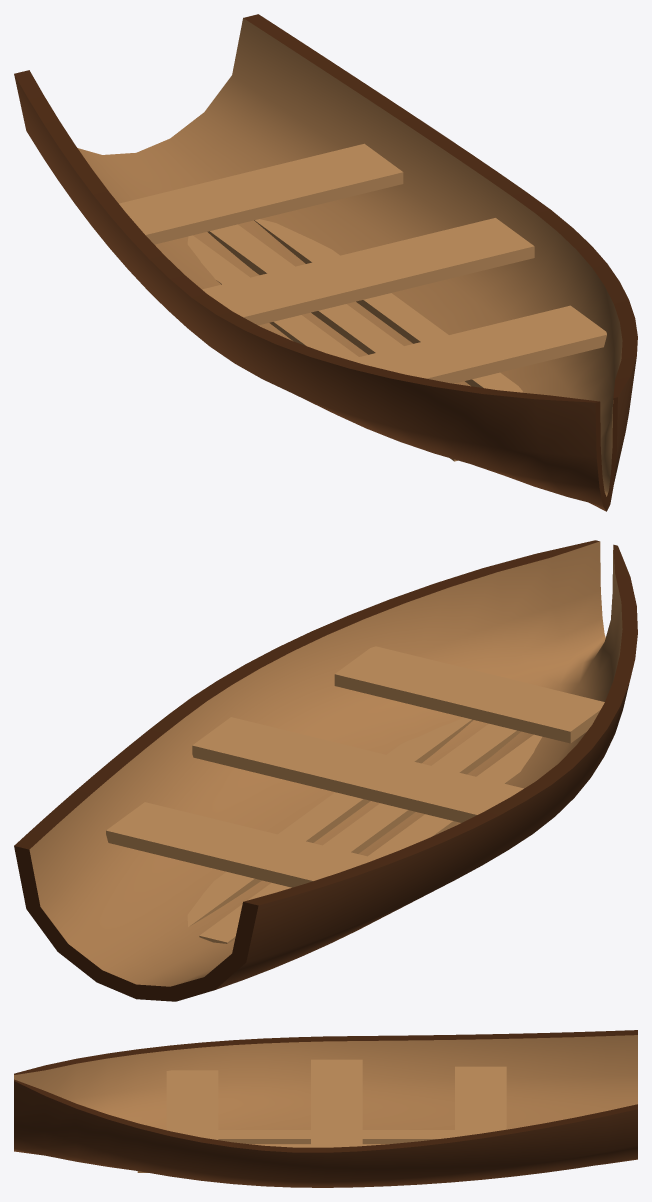
Rendered from nogita_wooden_boat.glb.
The picture shows the model from 3 angles, top to bottom: view 1: azimuth 30°, elevation 25°; view 2: azimuth 150°, elevation 25°; view 3: azimuth 270°, elevation 25°; orthographic projection. The views are drawn at different scales.
Parts seen in each view (by area): view 1: HollowBoat; view 2: HollowBoat; view 3: HollowBoat.
Boxes of the visible parts, x1,y1,x2,y2 form: HollowBoat: (14,14,637,511); HollowBoat: (14,540,637,1001); HollowBoat: (14,1030,637,1187).
Size of the model in its own units: 1.28 by 0.5 by 2.9.
